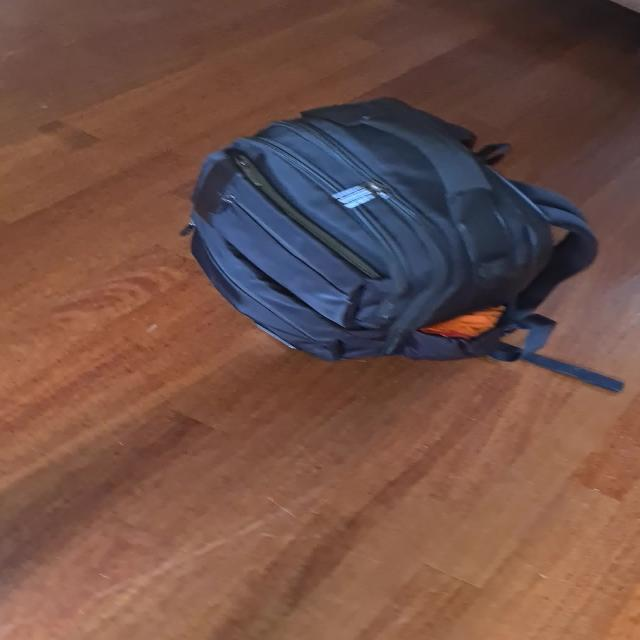backpack: (170, 84, 610, 368)
